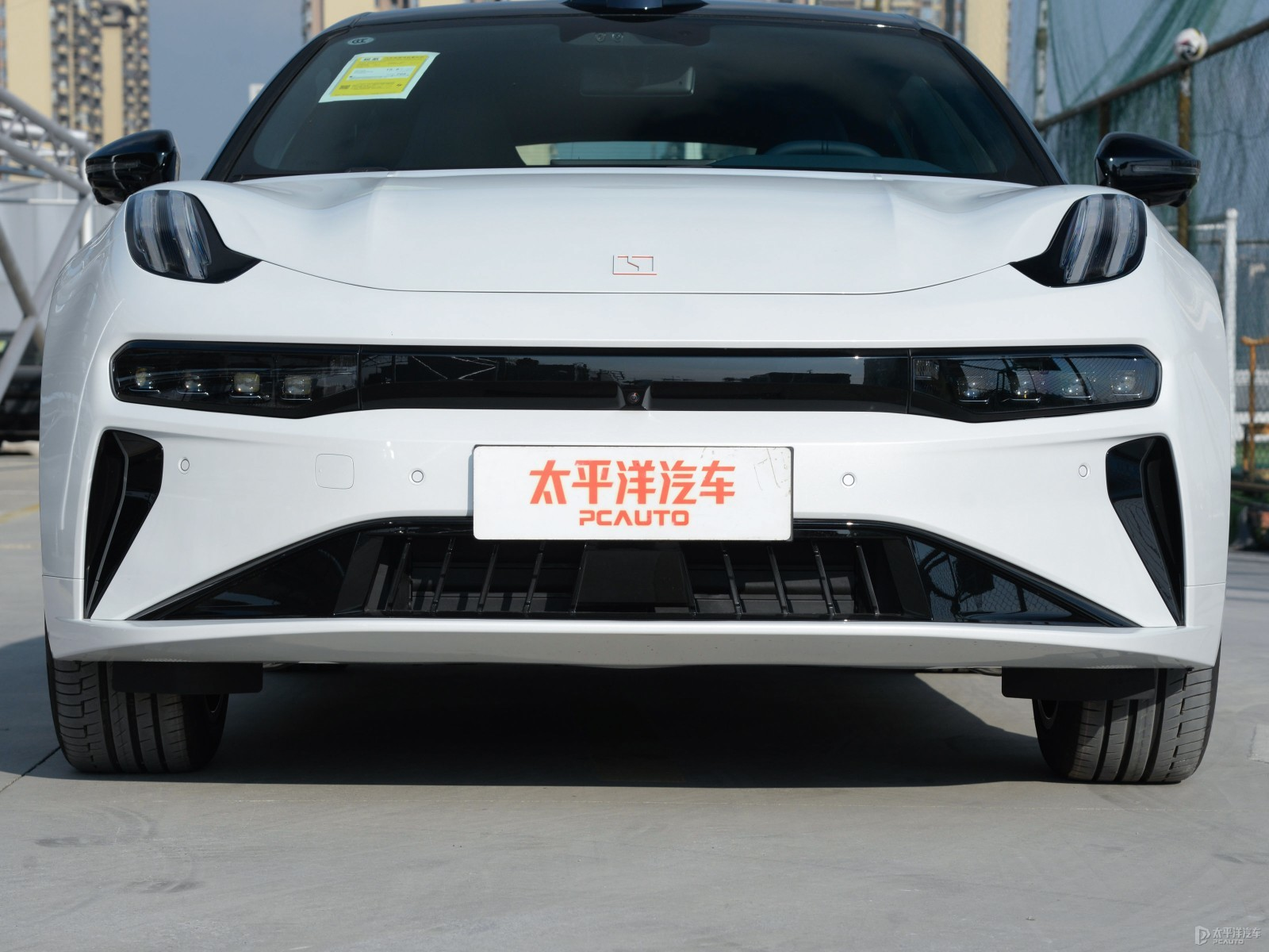ZEEKR: (613, 254, 656, 274)
